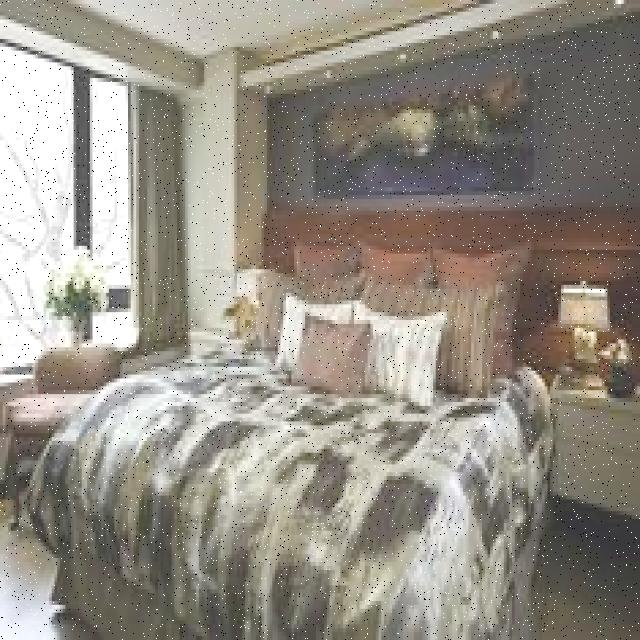bed: (35, 224, 567, 640)
